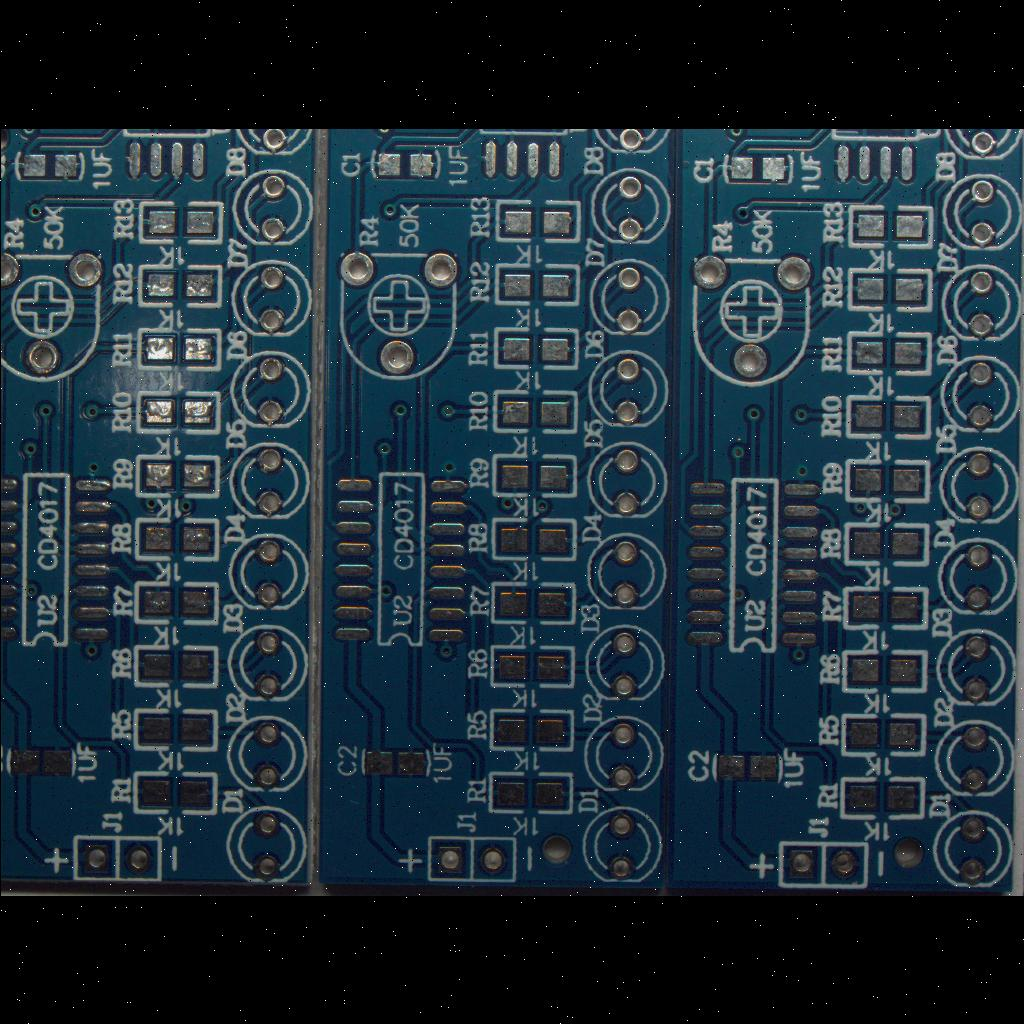NG: (676, 467, 826, 657), (325, 466, 473, 656), (0, 463, 119, 658), (132, 196, 228, 250), (136, 260, 226, 316), (834, 774, 930, 826), (846, 262, 934, 318), (490, 195, 584, 247), (486, 450, 580, 502), (128, 513, 222, 565), (838, 708, 928, 762), (841, 517, 931, 571), (846, 327, 936, 381), (485, 705, 577, 757), (488, 386, 580, 438), (836, 646, 930, 696), (484, 768, 578, 818), (127, 768, 221, 818), (130, 324, 224, 374), (492, 258, 582, 310), (842, 455, 932, 507), (130, 388, 226, 436), (128, 705, 220, 755), (839, 583, 931, 633), (488, 578, 580, 628), (130, 641, 222, 691), (132, 452, 224, 502), (485, 643, 579, 691), (487, 515, 579, 563), (490, 323, 580, 371), (130, 580, 222, 626), (838, 396, 932, 440), (362, 142, 442, 190), (846, 205, 932, 249), (706, 744, 788, 786), (0, 742, 78, 782), (721, 148, 795, 190), (359, 742, 433, 784), (13, 149, 87, 187)
